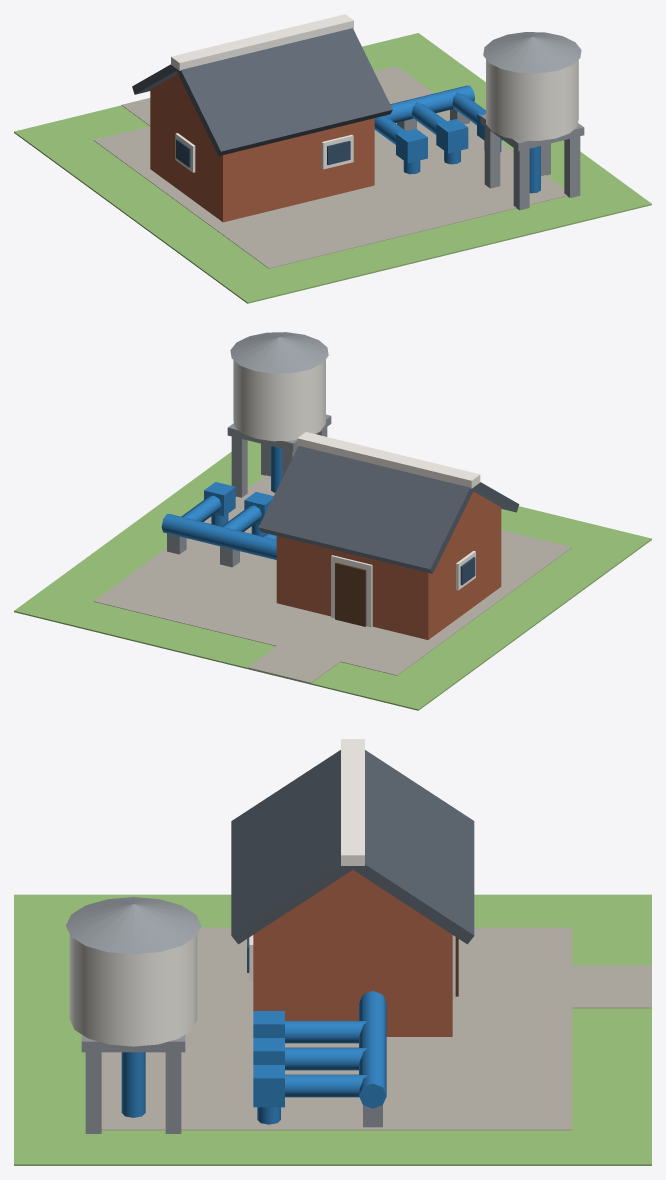
Rendered from pump.glb.
The picture shows the model from 3 angles, top to bottom: view 1: azimuth 30°, elevation 25°; view 2: azimuth 150°, elevation 25°; view 3: azimuth 270°, elevation 25°; orthographic projection. The views are drawn at different scales.
Visible parts, largest first — view 1: lawn, gravel_yard, roof (×2), pump_house, water_tank, pipe (×5), tank_roof, tank_leg (×3), ridge, valve (×2), gable, tank_base (+3 smaller); view 2: lawn, gravel_yard, roof (×2), pump_house, water_tank, pipe (×3), tank_roof, ridge, gravel_path, door, gable, tank_leg (+3 smaller); view 3: lawn, gravel_yard, roof (×2), pump_house, water_tank, pipe (×5), tank_roof, gable, gravel_path, valve (×3), ridge, tank_leg (×2) (+1 smaller).
Boxes of the visible parts, <box> form: lawn: <box>14,33,651,303</box>; gravel_yard: <box>93,66,567,268</box>; roof (×2): <box>132,28,392,156</box>; pump_house: <box>150,90,374,222</box>; water_tank: <box>486,59,578,140</box>; pipe (×5): <box>374,85,540,193</box>; tank_roof: <box>483,32,581,73</box>; tank_leg (×3): <box>484,127,580,210</box>; ridge: <box>171,14,353,70</box>; valve (×2): <box>396,119,468,163</box>; gable: <box>150,74,205,129</box>; tank_base: <box>480,114,584,151</box>; lawn: <box>14,440,651,710</box>; gravel_yard: <box>93,475,572,675</box>; roof (×2): <box>258,446,519,573</box>; pump_house: <box>276,507,501,639</box>; water_tank: <box>233,359,325,441</box>; pipe (×3): <box>161,495,276,559</box>; tank_roof: <box>230,332,328,373</box>; ridge: <box>297,432,480,488</box>; gravel_path: <box>248,646,340,684</box>; door: <box>335,562,366,626</box>; gable: <box>446,491,500,547</box>; tank_leg: <box>231,436,247,497</box>; lawn: <box>14,894,651,1165</box>; gravel_yard: <box>101,927,572,1130</box>; roof (×2): <box>231,750,474,944</box>; pump_house: <box>253,928,452,1036</box>; water_tank: <box>69,934,197,1046</box>; pipe (×5): <box>121,991,386,1117</box>; tank_roof: <box>66,897,201,954</box>; gable: <box>263,870,442,928</box>; gravel_path: <box>572,965,651,1008</box>; valve (×3): <box>253,1011,284,1107</box>; ridge: <box>341,739,364,865</box>; tank_leg (×2): <box>85,1052,181,1133</box>.
Size of the model in its own units: 16 by 5.85 by 16.
